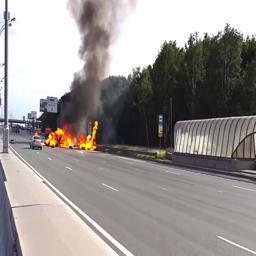fire: (48, 120, 97, 152)
